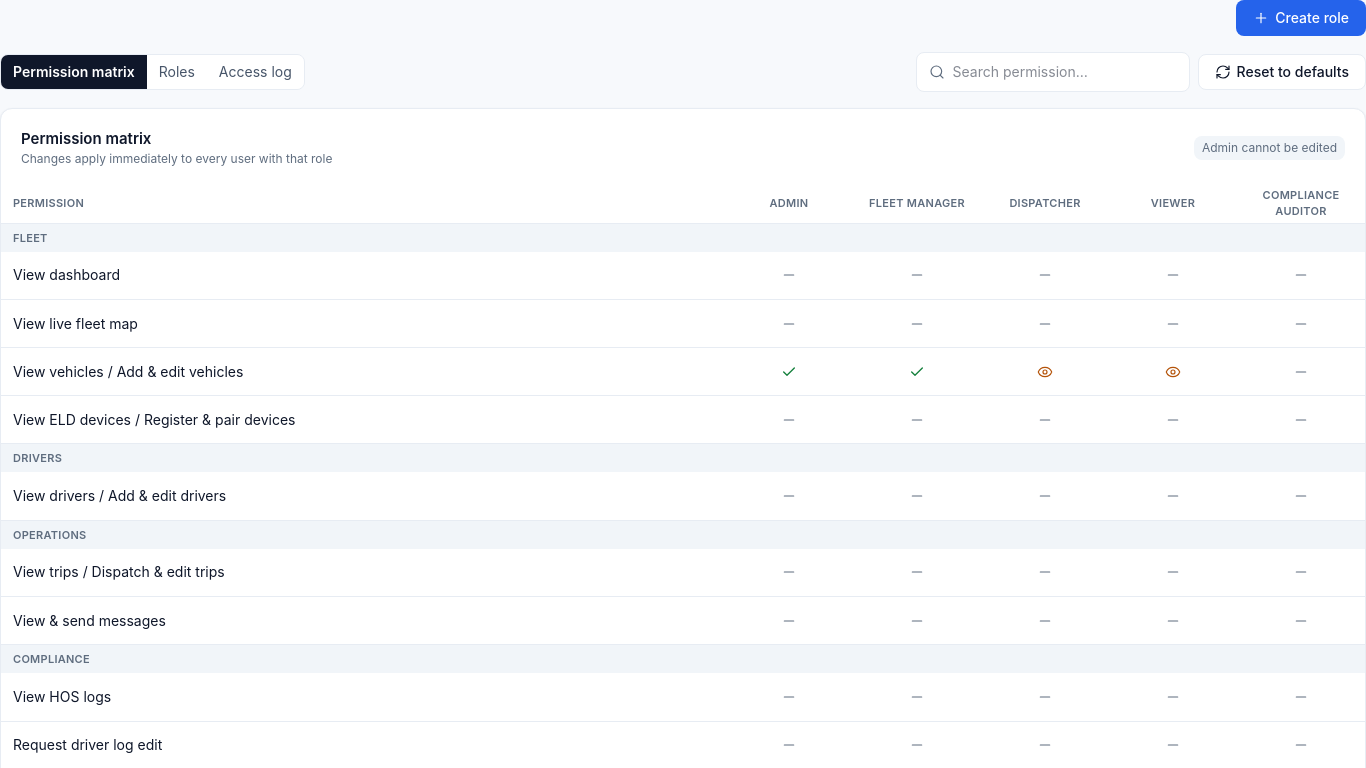
Test case: RolesPage — W-19 permission matrix › shows the §13.2 empty copy on the Access log tab
Expected: the text "View vehicles / Add & edit vehicles" is shown, [1, 348, 725, 396]
Step 1. Click the button "Access log" → (255, 72), box [207, 55, 304, 89]
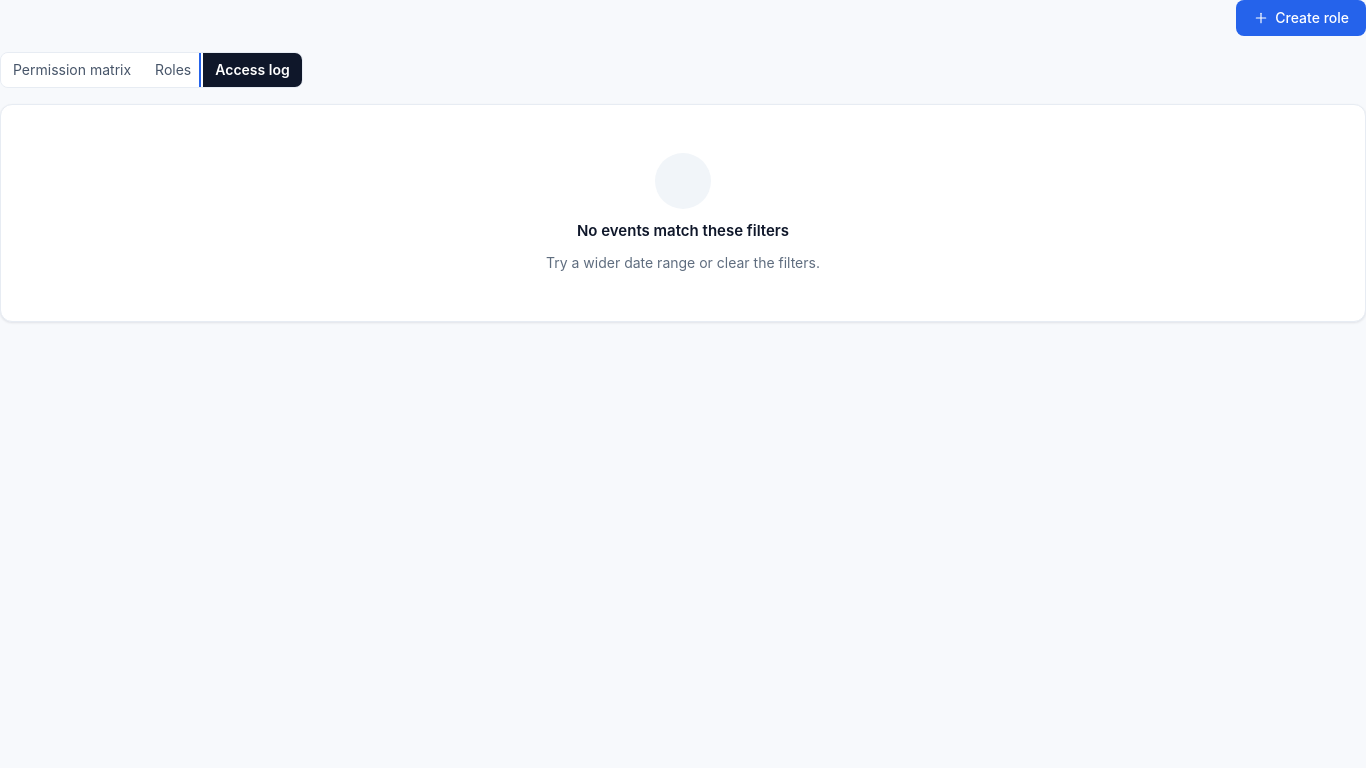
Now the heading "No events match these filters" is shown, box [577, 221, 789, 241]
